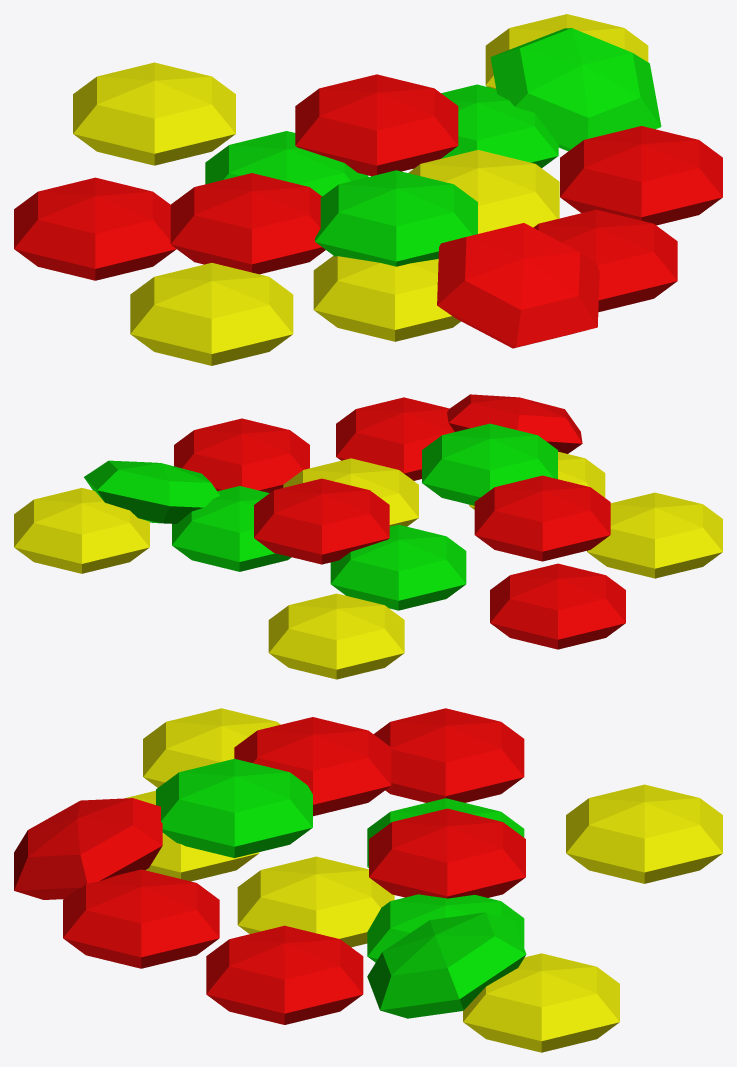
The model's file is SM_NmNs.fbx.
3 renders of one model, top to bottom at view 1: azimuth 30°, elevation 25°; view 2: azimuth 150°, elevation 25°; view 3: azimuth 270°, elevation 25°, orthographic. The views are drawn at different scales.
Visible parts, largest first — view 1: SM_NmNs; view 2: SM_NmNs; view 3: SM_NmNs.
Part boxes in pixels (x1,y1,x2,y2): SM_NmNs: [14, 14, 722, 365]; SM_NmNs: [14, 394, 722, 679]; SM_NmNs: [14, 708, 722, 1052].
Size of the model in its own units: 8.4 by 1.26 by 7.83.
